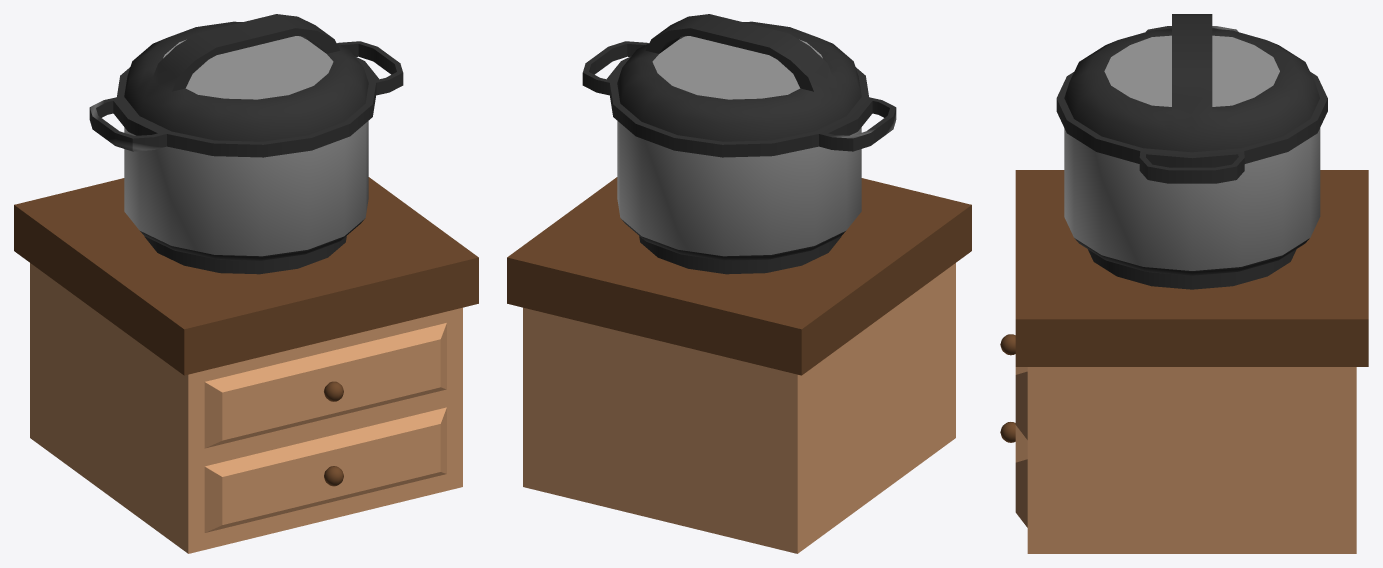
File: ASFTR_CounterRiceCooker.fbx
3 views of the same model, side by side, from view 1: azimuth 30°, elevation 25°; view 2: azimuth 150°, elevation 25°; view 3: azimuth 270°, elevation 25° (orthographic). The views are drawn at different scales.
Visible parts, largest first — view 1: ASFTR_CounterRiceCooker; view 2: ASFTR_CounterRiceCooker; view 3: ASFTR_CounterRiceCooker.
Part boxes in pixels (box(x1,y1,x2,y2)): ASFTR_CounterRiceCooker: box(14, 14, 478, 553); ASFTR_CounterRiceCooker: box(507, 14, 971, 553); ASFTR_CounterRiceCooker: box(1000, 14, 1368, 553).
Bounding box in the file's own units: 100 × 140 × 104.
